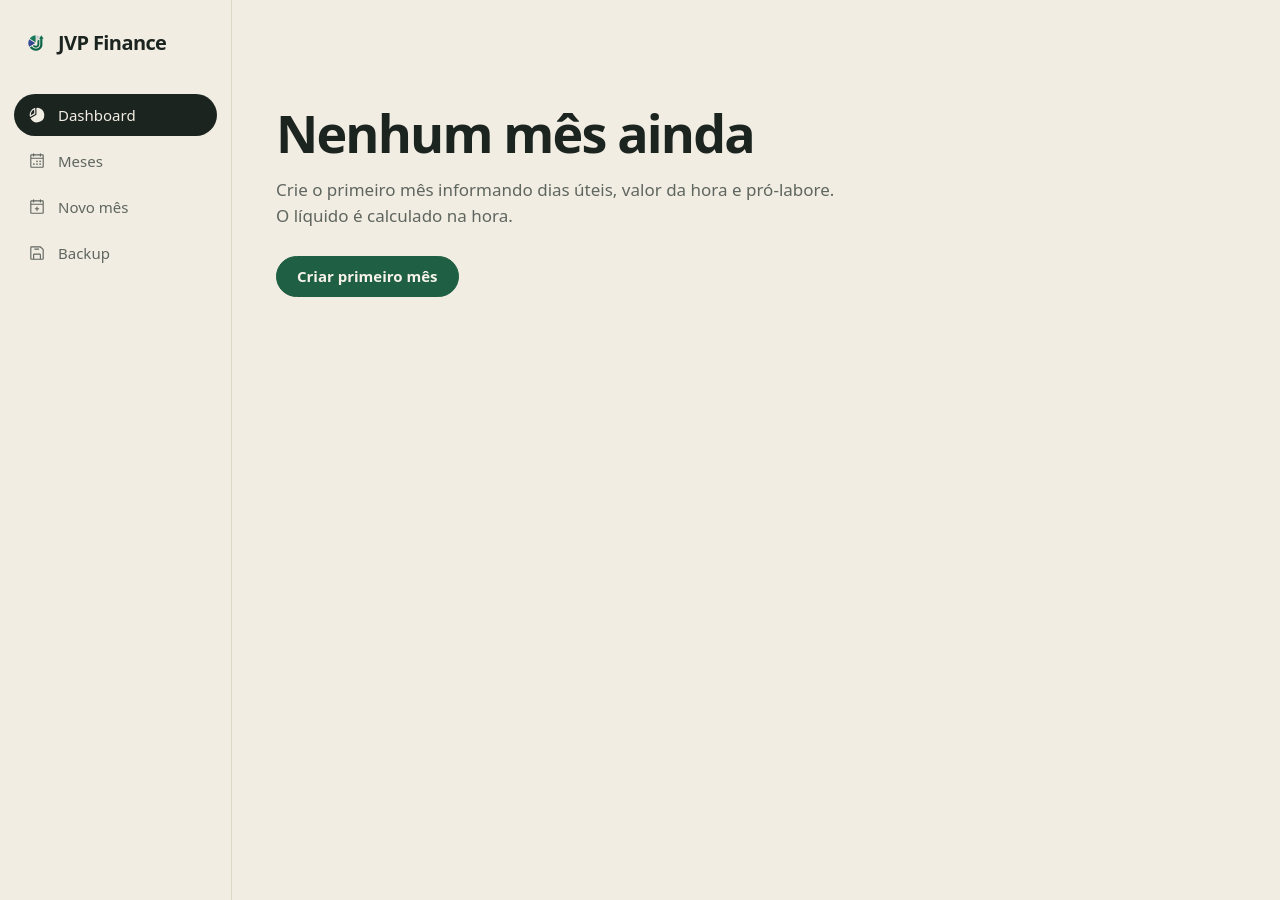
Test case: criar mês CLT usa o salário digitado como líquido
Click the button "Criar primeiro mês" at (367, 276), box x1=276 y1=256 x2=458 y2=297
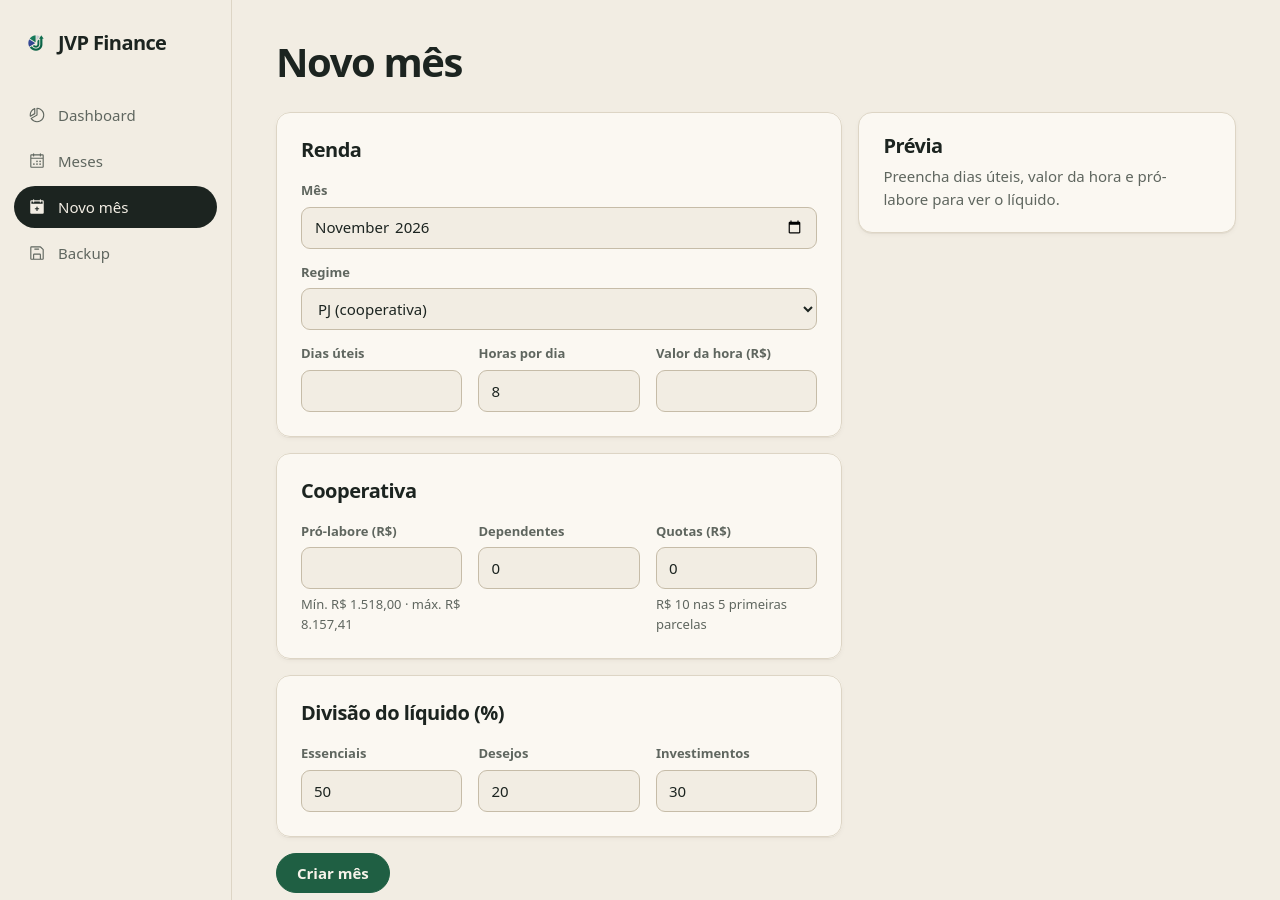
Replace the text in the field labelled "Mês" with "2026-12" at (559, 228), box x1=301 y1=206 x2=817 y2=248
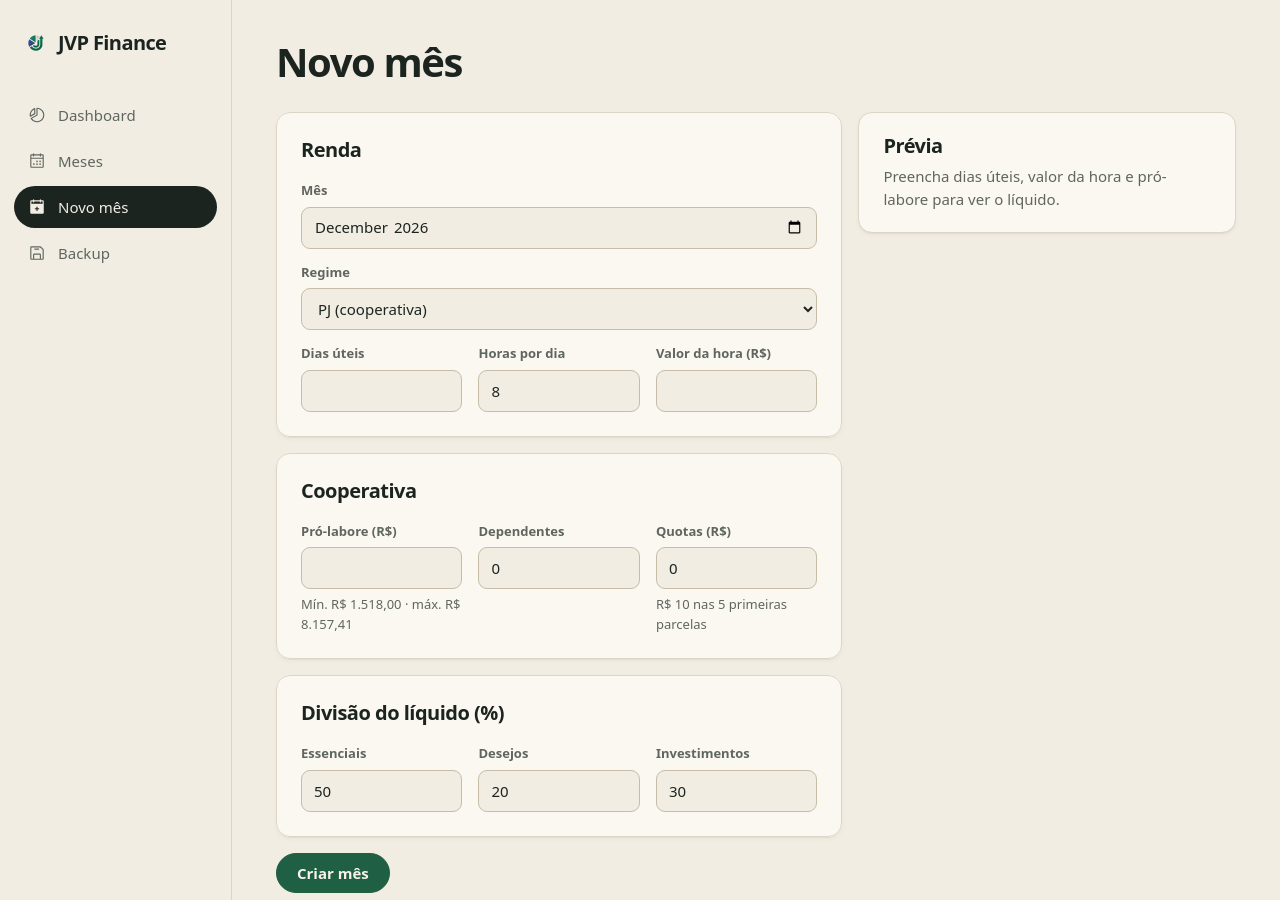
Select "CLT" in the dropdown labelled "Regime" at (559, 309), box x1=301 y1=288 x2=817 y2=330
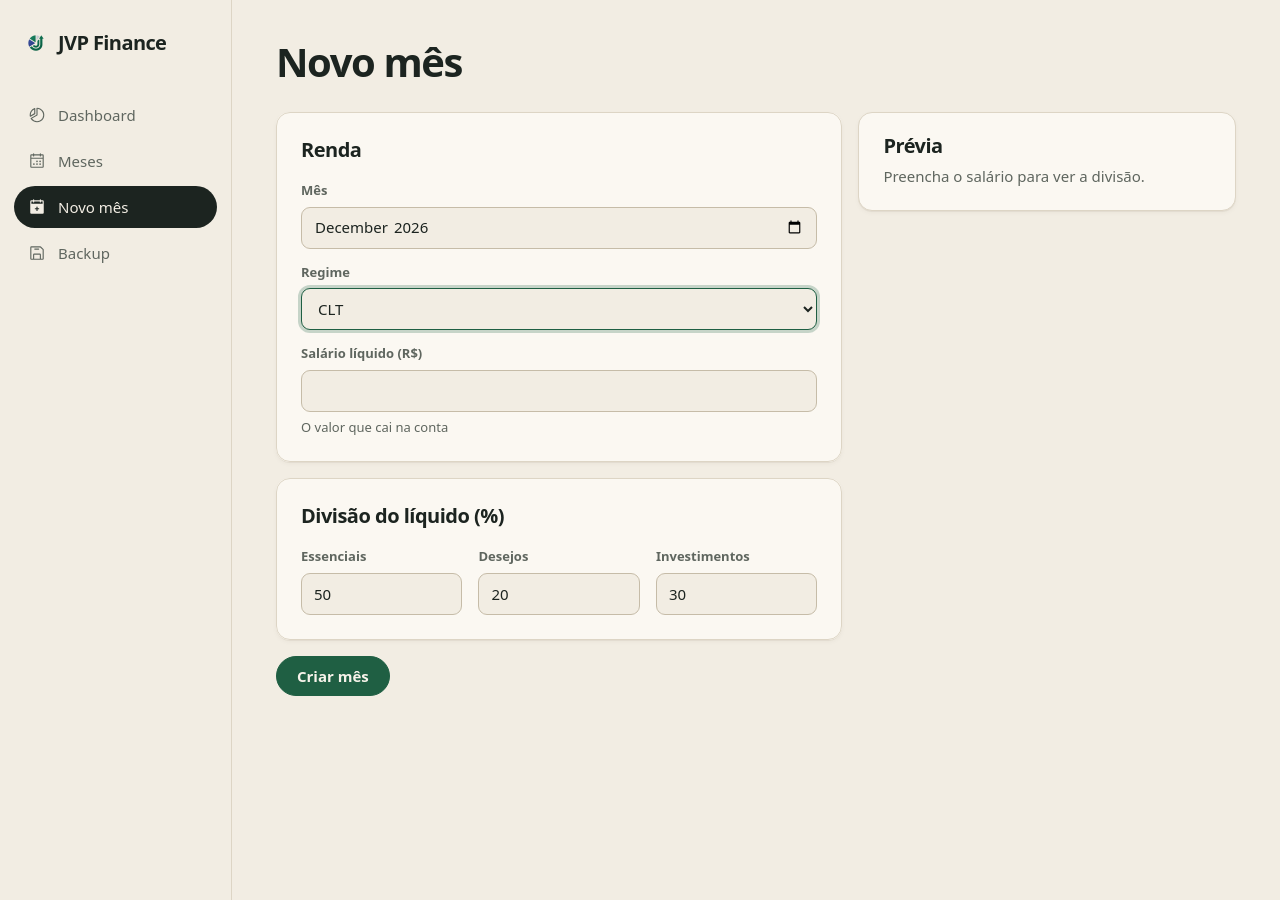
Now the label labelled "Pró-labore" is gone
Type "4000" into the number field labelled "Salário líquido (R$)" at (559, 390), box x1=301 y1=370 x2=817 y2=412
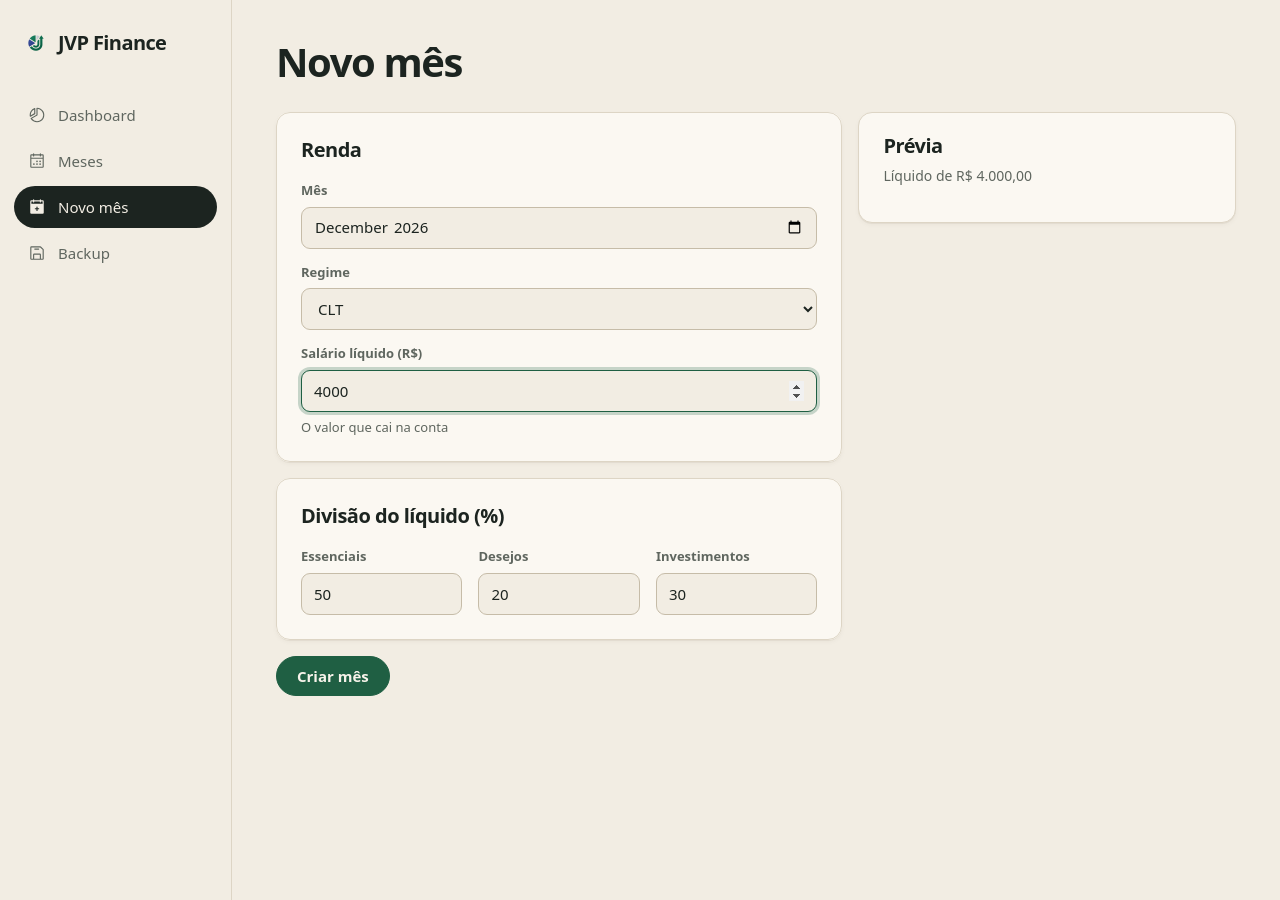
Click the button "Criar mês" at (333, 676), box x1=276 y1=656 x2=390 y2=696
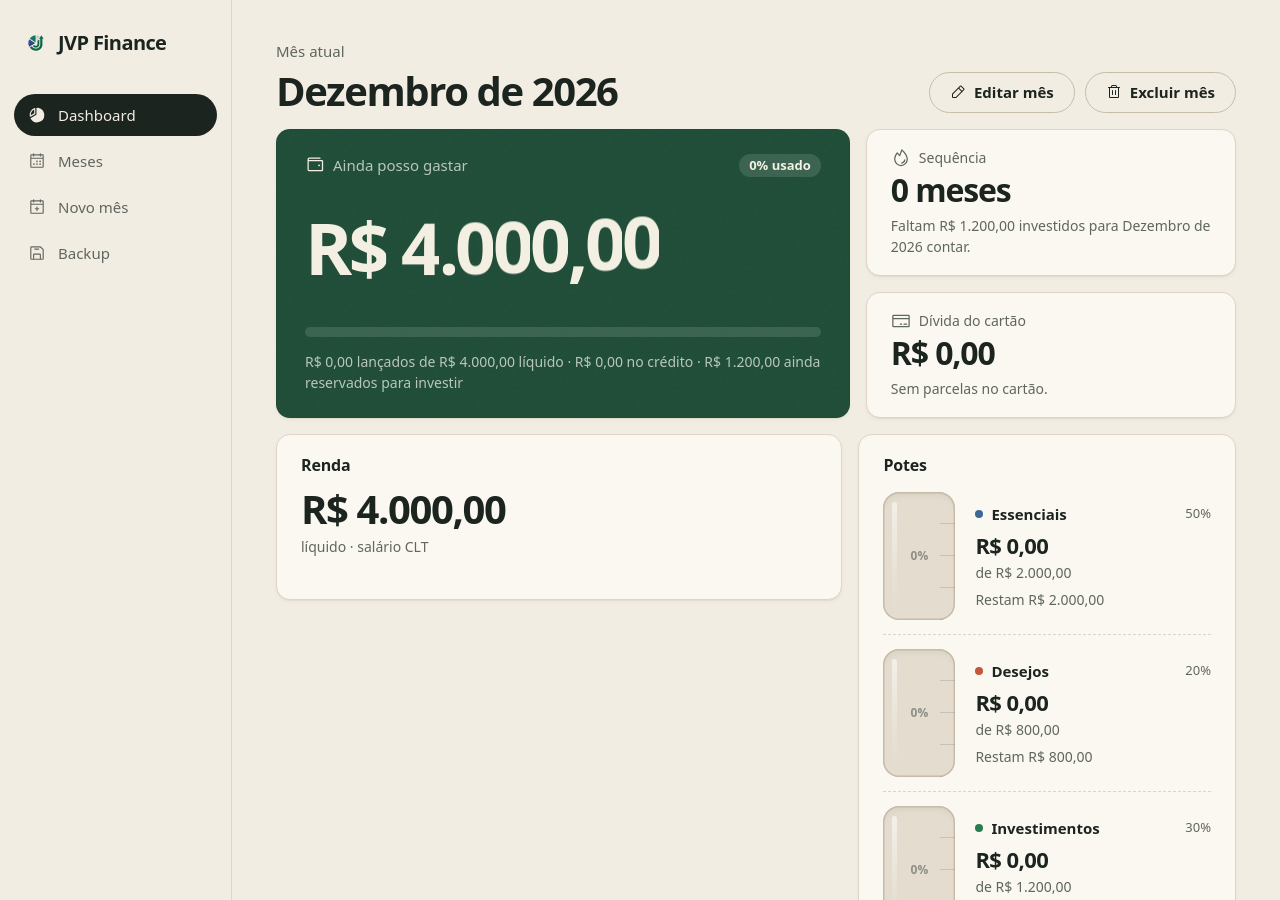
Now the heading "Dezembro de 2026" is shown, box x1=276 y1=68 x2=618 y2=112
